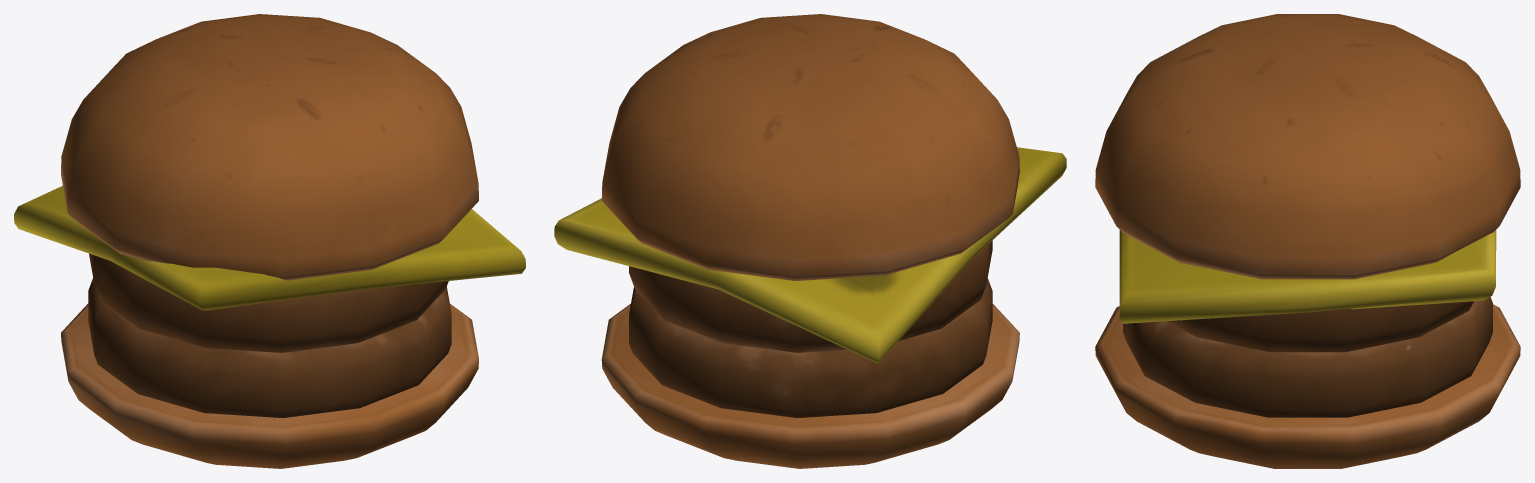
The model's file is MSH_Hamburguesa_P_2C_Q.fbx.
3 views of the same model, side by side, from view 1: azimuth 30°, elevation 25°; view 2: azimuth 150°, elevation 25°; view 3: azimuth 270°, elevation 25° (orthographic).
Parts seen in each view (by area): view 1: MSH_Hamburguesa_P_2C_Q; view 2: MSH_Hamburguesa_P_2C_Q; view 3: MSH_Hamburguesa_P_2C_Q.
Boxes of the visible parts, x1=… form: MSH_Hamburguesa_P_2C_Q: x1=14, y1=14, x2=525, y2=468; MSH_Hamburguesa_P_2C_Q: x1=554, y1=14, x2=1066, y2=468; MSH_Hamburguesa_P_2C_Q: x1=1095, y1=14, x2=1520, y2=468.
Bounding box in the file's own units: 14.42 × 14.79 × 13.9.
1 material, 1 textured.
